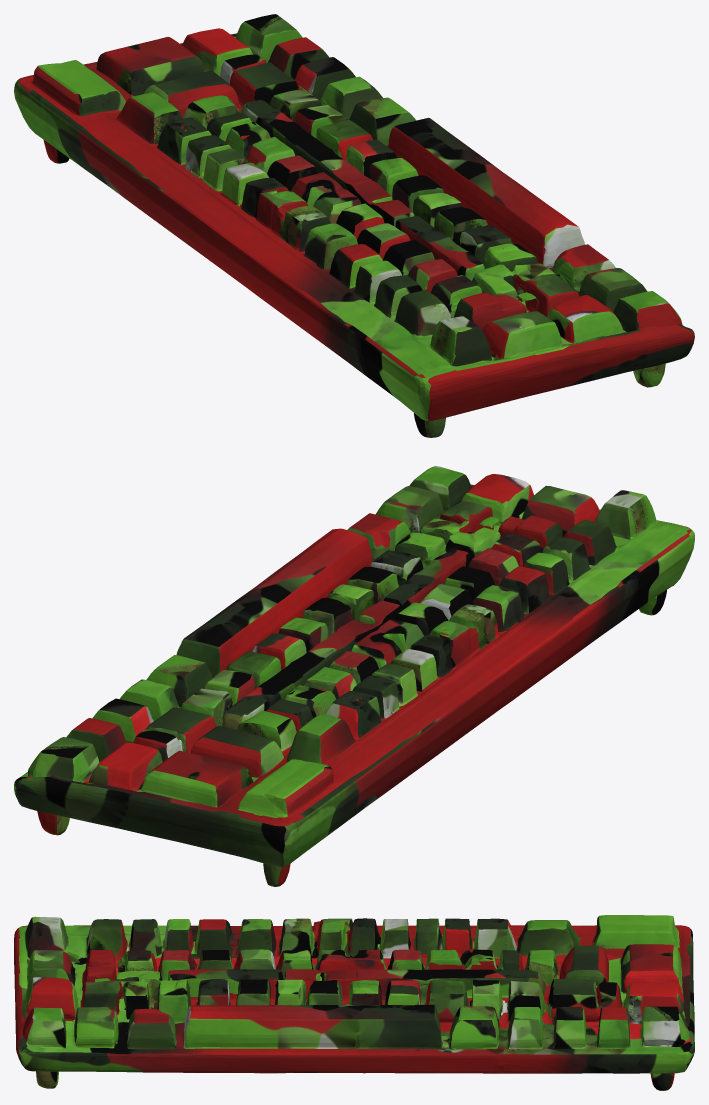
The model's file is sample.obj.
3 views of the same model, one above another, from view 1: azimuth 30°, elevation 25°; view 2: azimuth 150°, elevation 25°; view 3: azimuth 270°, elevation 25° (orthographic). The views are drawn at different scales.
Size of the model in its own units: 0.1754 by 0.065 by 0.4496.
